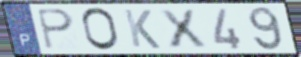4: (211, 7, 243, 50)
9: (245, 6, 285, 52)
K: (122, 8, 163, 50)
O: (80, 6, 122, 52)
P: (34, 8, 76, 51)
X: (156, 8, 210, 50)
